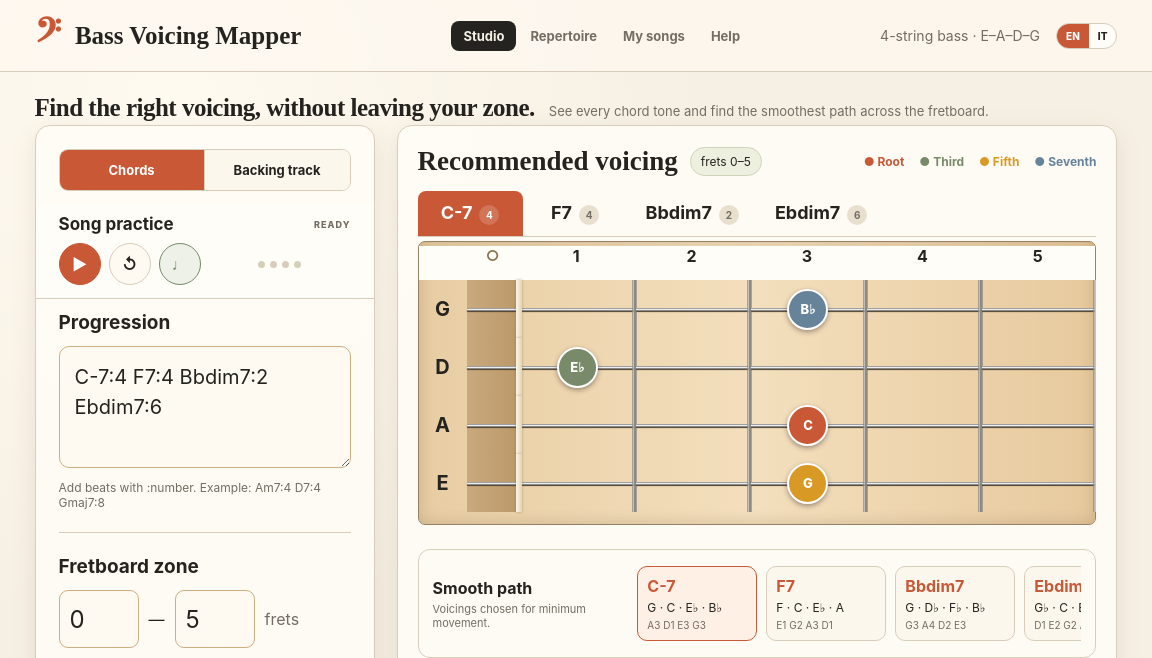
Test: the chord engine reaches the screen › reports unrecognized chords instead of guessing
Replace the text in the text box labelled "Progression" with "Cm7 Cfoo" at (204, 407), box [58,346,350,468]
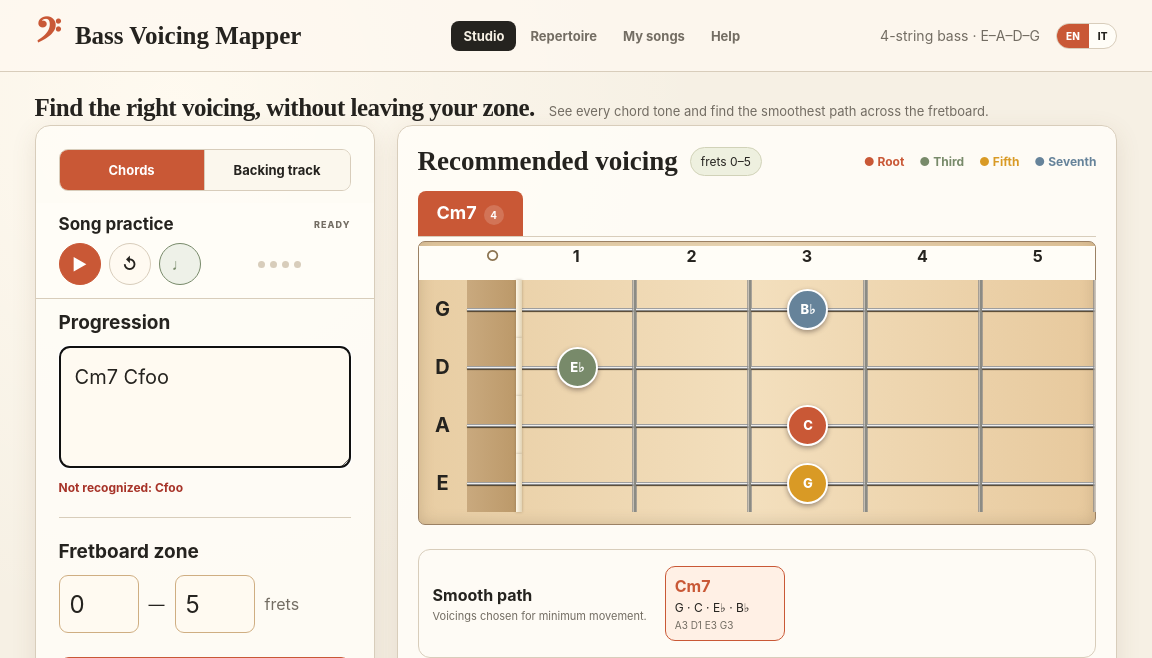
Check: the text "Not recognized: Cfoo" is shown, box [58,480,183,495]
